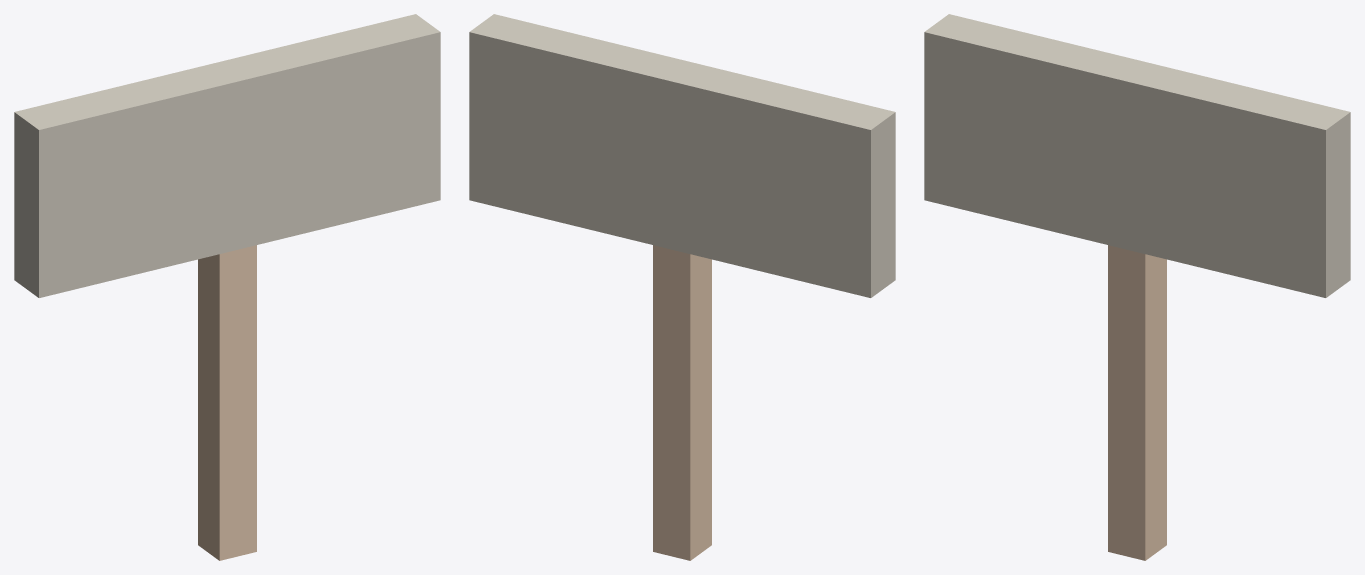
The model's file is sign.glb.
3 renders of one model, left to right at view 1: azimuth 30°, elevation 25°; view 2: azimuth 150°, elevation 25°; view 3: azimuth 330°, elevation 25°, orthographic.
Parts seen in each view (by area): view 1: board, post; view 2: board, post; view 3: board, post.
Boxes of the visible parts, x1,y1,x2,y2 form: board: [14, 14, 440, 297]; post: [198, 245, 256, 560]; board: [469, 14, 895, 297]; post: [653, 245, 711, 560]; board: [924, 14, 1350, 297]; post: [1108, 245, 1166, 560].
Size of the model in its own units: 0.75 by 0.85 by 0.08.
